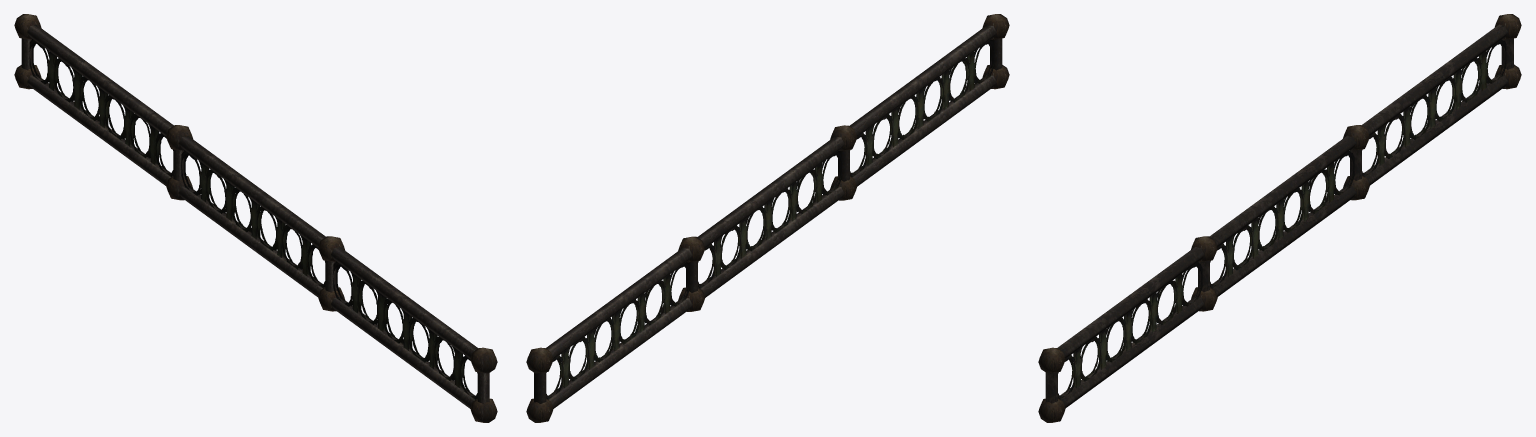
Rendered from railings_factory_4m_support_dirty.DAE.
3 views of the same model, side by side, from view 1: azimuth 30°, elevation 25°; view 2: azimuth 150°, elevation 25°; view 3: azimuth 330°, elevation 25° (orthographic).
Parts seen in each view (by area): view 1: Object113, Plane016; view 2: Object113, Plane016; view 3: Object113, Plane016.
Boxes of the visible parts, x1,y1,x2,y2 form: Object113: [14, 14, 497, 422]; Plane016: [29, 39, 477, 399]; Object113: [526, 14, 1009, 422]; Plane016: [546, 40, 994, 399]; Object113: [1038, 14, 1521, 422]; Plane016: [1058, 39, 1506, 399].
Size of the model in its own units: 0.12 by 0.3525 by 3.99.
